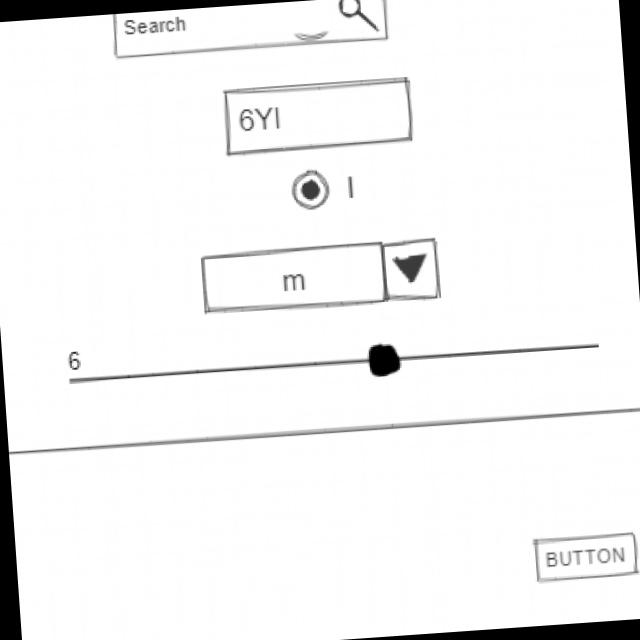button: (530, 525, 640, 585)
container: (8, 400, 640, 640)
input: (216, 71, 419, 160)
radio: (287, 162, 372, 215)
search: (106, 1, 392, 66)
select: (196, 231, 449, 320)
